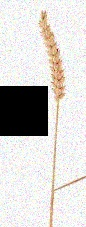wheat: (33, 11, 67, 100)
